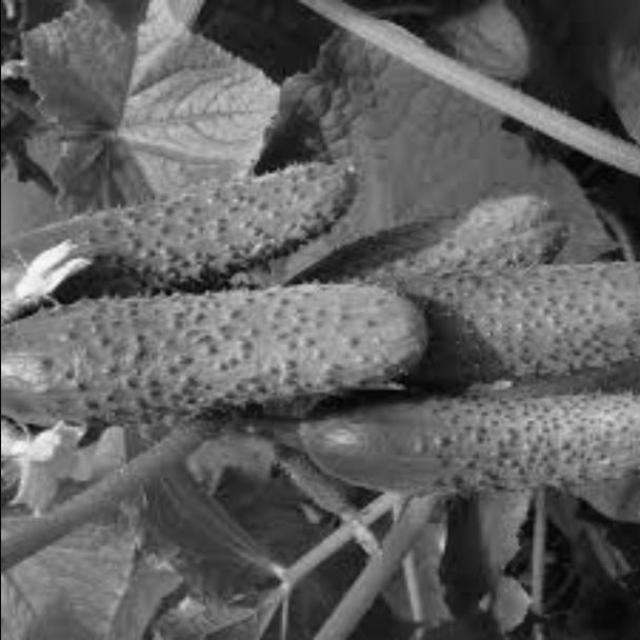cucumber: (0, 275, 432, 443), (0, 157, 375, 300), (275, 386, 639, 519), (344, 243, 639, 382)
